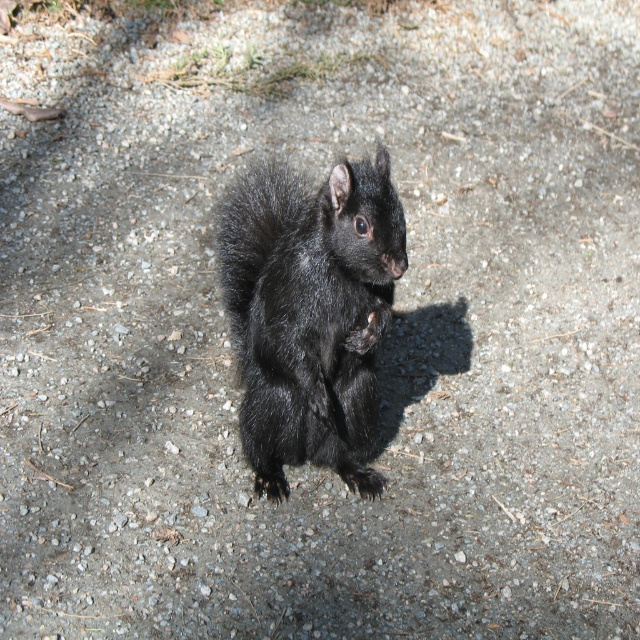Squirrel: (208, 134, 436, 508)
